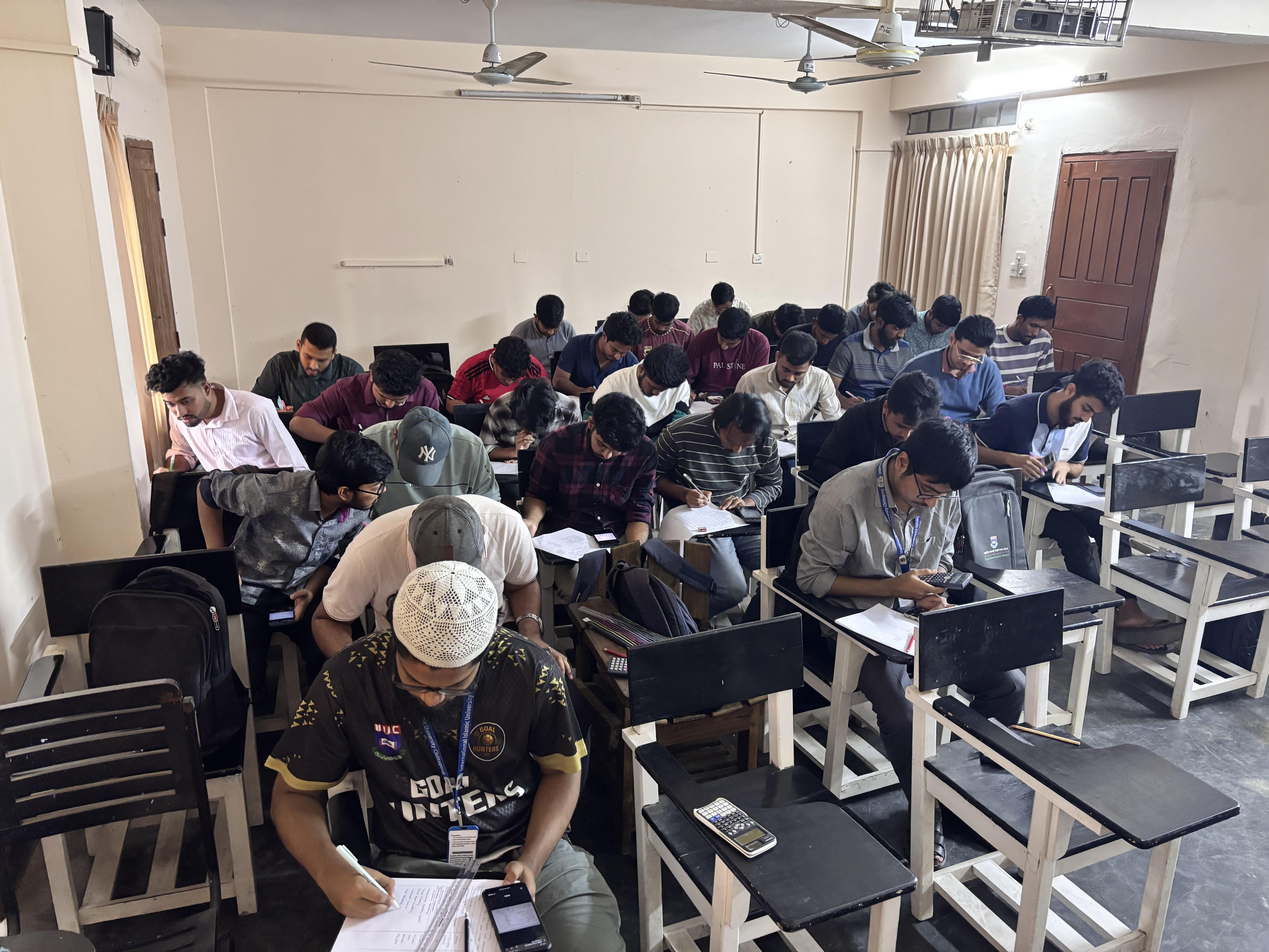copying: (188, 445, 397, 603), (140, 364, 271, 496)
no_cheating: (813, 442, 983, 645), (995, 368, 1129, 495), (357, 403, 507, 505), (291, 351, 439, 437), (742, 339, 829, 440), (1000, 295, 1072, 406), (257, 321, 358, 397), (547, 316, 651, 389), (597, 349, 700, 419), (479, 388, 581, 457), (942, 327, 1008, 424), (440, 334, 539, 395), (498, 288, 587, 345), (690, 315, 760, 386), (690, 278, 767, 330), (631, 289, 684, 350), (919, 283, 962, 344), (791, 299, 845, 347)
suspicious_moving: (849, 298, 919, 407)
using_phone: (265, 597, 611, 952), (520, 407, 657, 577), (655, 401, 791, 563)
